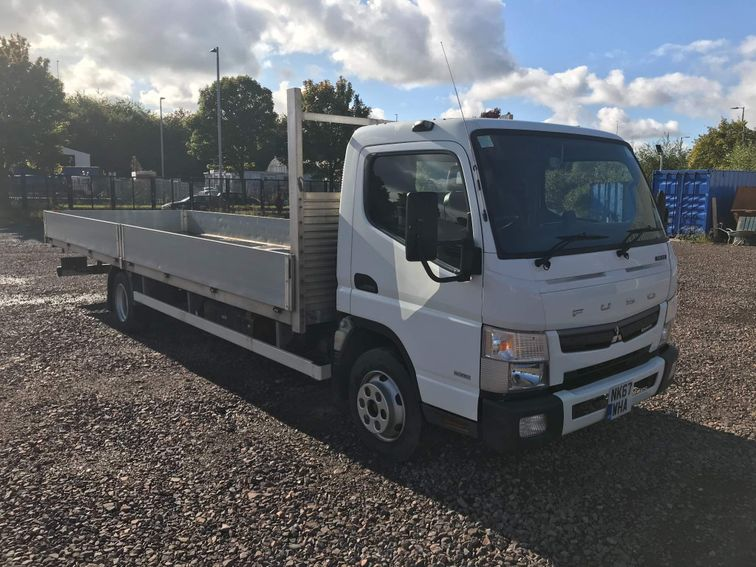Semi: (41, 86, 677, 458)
